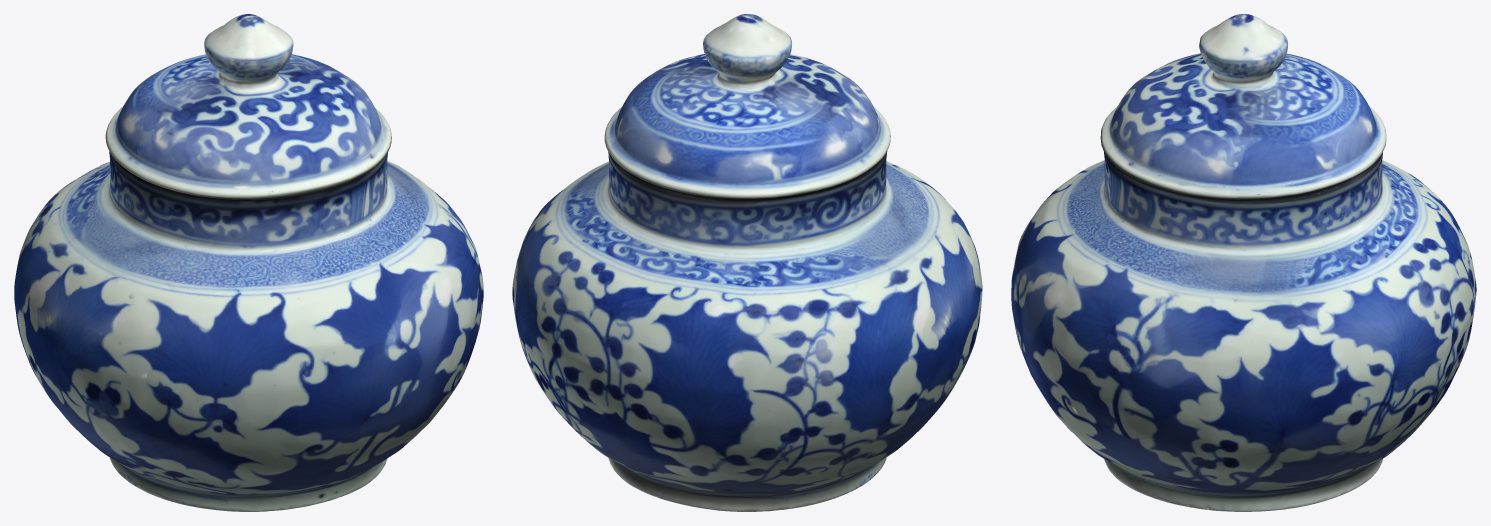
The model's file is syncmvd.glb.
The picture shows the model from 3 angles, left to right: view 1: azimuth 30°, elevation 25°; view 2: azimuth 150°, elevation 25°; view 3: azimuth 270°, elevation 25°; orthographic projection.
Parts seen in each view (by area): view 1: textured; view 2: textured; view 3: textured.
Boxes of the visible parts, x1,y1,x2,y2 form: textured: (14,14,483,511); textured: (512,14,982,511); textured: (1011,14,1476,511).
Size of the model in its own units: 1.94 by 2 by 1.93.
1 material, 1 textured.
